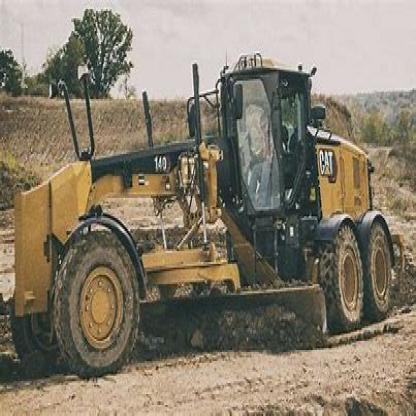bull_dozer/loader/grader: (10, 37, 408, 381)
